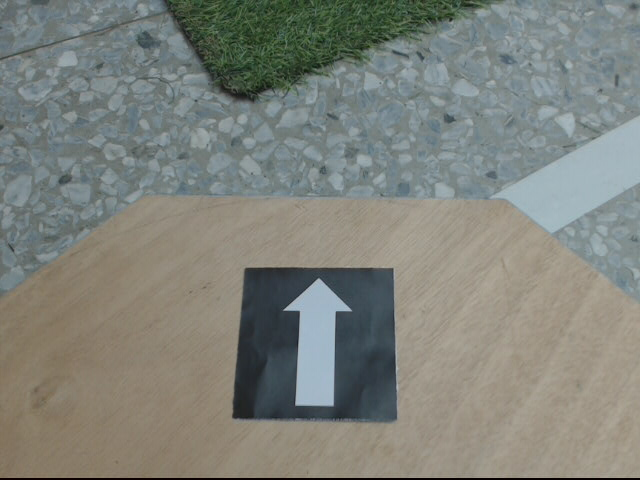straight: (232, 267, 398, 419)
